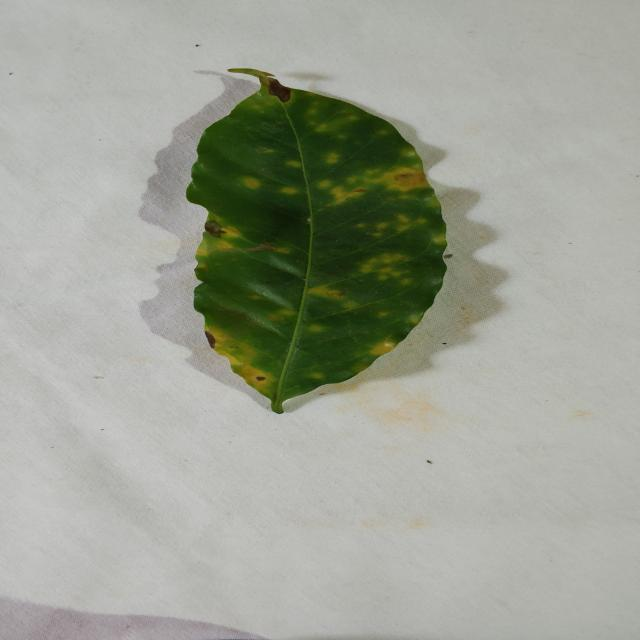Enfermedad-Roya: (185, 67, 449, 415)
